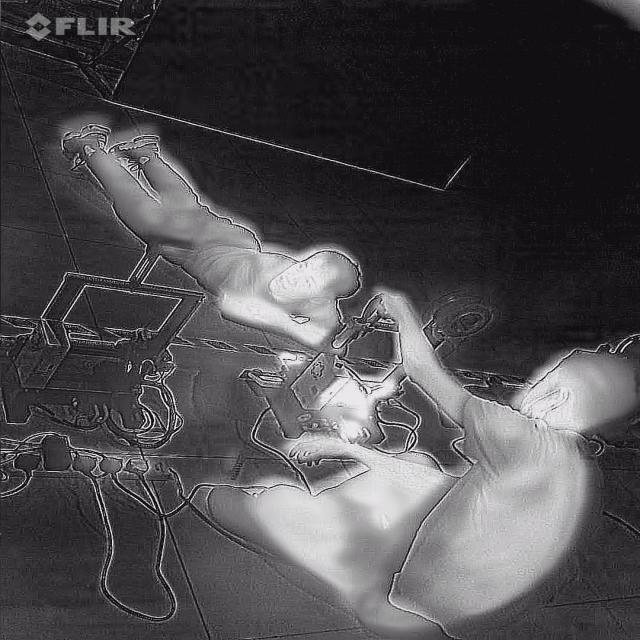Victim: (180, 272, 640, 636), (26, 92, 380, 350)
